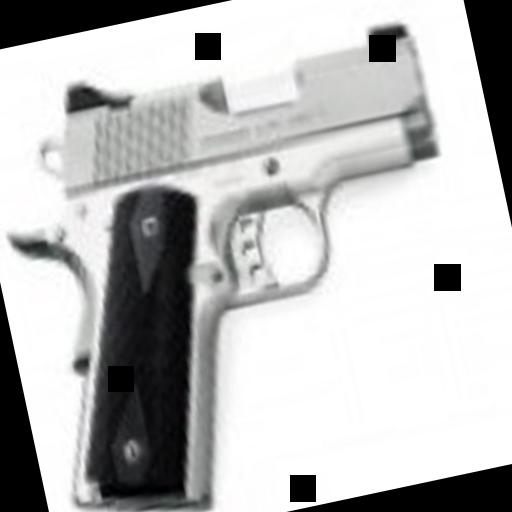Handgun: (0, 1, 497, 512)
